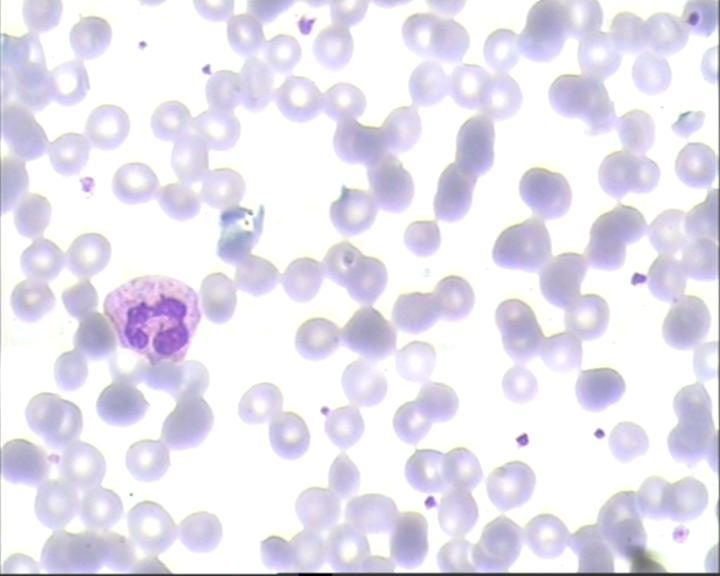neut: (102, 270, 209, 366)
